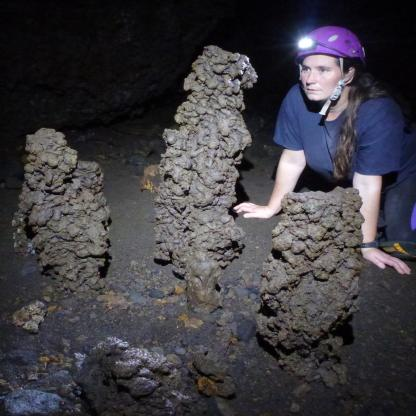Helmet: (288, 25, 369, 112)
